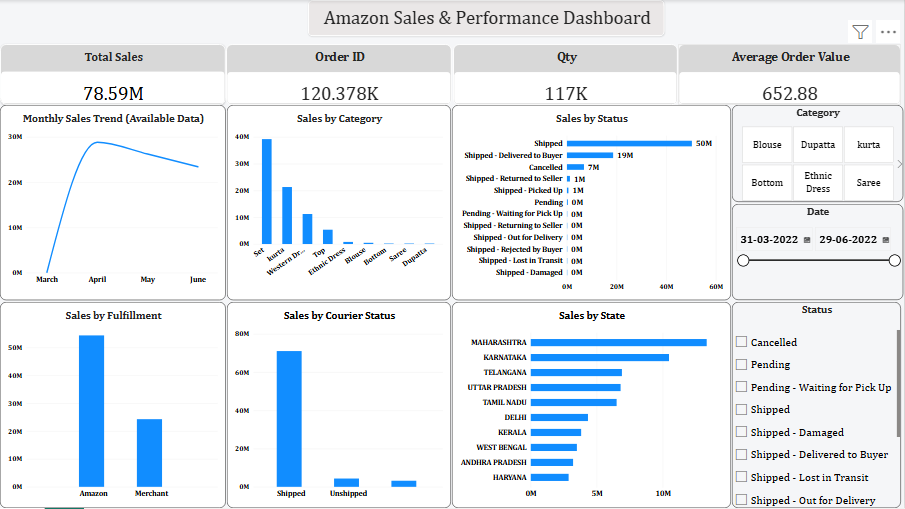

Layout of this report page (visuals, bound fields, positions):
{"tool":"powerbi","page":{"name":"Page 1","canvas":[1920,1080],"ordinal":0},"visuals":[{"type":"cardVisual","title":"Total Sales","fields":{"Data":["Sum(amazon_data.Amount)"]},"box":[0,93.3,480,128.9],"z":0},{"type":"cardVisual","title":"Order ID","fields":{"Data":["Count(amazon_data.Order ID)"]},"box":[480.5,93.5,480.5,129.7],"z":1000},{"type":"cardVisual","title":"Qty","fields":{"Data":["Sum(amazon_data.Qty)"]},"box":[963.1,93.5,478.3,129.7],"z":2000},{"type":"cardVisual","title":"Average Order Value","fields":{"Data":["amazon_data.Average Order Value"]},"box":[1441.4,93.5,474.1,129.7],"z":3000},{"type":"lineChart","title":"Monthly Sales Trend (Available Data)","fields":{"Y":["Sum(amazon_data.Amount)"],"Category":["amazon_data.Date.Variation.Date Hierarchy.Month"]},"box":[0,223.2,480.5,414.6],"z":4000},{"type":"clusteredColumnChart","title":"Sales by Category","fields":{"Category":["amazon_data.Category"],"Y":["Sum(amazon_data.Amount)"]},"box":[482.6,223.2,476.2,414.6],"z":5000},{"type":"clusteredColumnChart","title":"Sales by Fulfillment","fields":{"Category":["amazon_data.Fulfilment"],"Y":["Sum(amazon_data.Amount)"]},"box":[0,642,480.5,438],"z":6000},{"type":"barChart","title":"Sales by Status","fields":{"Category":["amazon_data.Status"],"Y":["Sum(amazon_data.Amount)"]},"box":[960.9,223.2,593.1,414.6],"z":7000},{"type":"slicer","title":"Category","fields":{"Values":["amazon_data.Category"]},"box":[1556.2,223.2,363.5,206.2],"z":8000},{"type":"slicer","title":"Status","fields":{"Values":["amazon_data.Status"]},"box":[1556.2,642,359.3,438],"z":9000},{"type":"slicer","title":"Date","fields":{"Values":["amazon_data.Date"]},"box":[1556.2,433.7,363.5,204.1],"z":10000},{"type":"clusteredBarChart","title":"Sales by State","fields":{"Category":["amazon_data.ship-state"],"Y":["Sum(amazon_data.Amount)"]},"box":[960.9,642,593.1,438],"z":11000},{"type":"textbox","title":"Amazon Sales & Performance Dashboard","box":[655.6,0,757.8,77],"z":12000},{"type":"clusteredColumnChart","title":"Sales by Courier Status","fields":{"Category":["amazon_data.Courier Status"],"Y":["Sum(amazon_data.Amount)"]},"box":[482.6,642,476.2,438],"z":13000}]}

Visuals, with their boxes in screenshot pixels (x1, y1, x2, y2), scaled from the page's 1920x1080 canvas onto the 905x509 screenshot:
"Total Sales" cardVisual: l=0, t=44, r=226, b=105
"Order ID" cardVisual: l=226, t=44, r=453, b=105
"Qty" cardVisual: l=454, t=44, r=679, b=105
"Average Order Value" cardVisual: l=679, t=44, r=903, b=105
"Monthly Sales Trend (Available Data)" lineChart: l=0, t=105, r=226, b=301
"Sales by Category" clusteredColumnChart: l=227, t=105, r=452, b=301
"Sales by Fulfillment" clusteredColumnChart: l=0, t=303, r=226, b=508
"Sales by Status" barChart: l=453, t=105, r=732, b=301
"Category" slicer: l=734, t=105, r=904, b=202
"Status" slicer: l=734, t=303, r=903, b=508
"Date" slicer: l=734, t=204, r=904, b=301
"Sales by State" clusteredBarChart: l=453, t=303, r=732, b=508
"Amazon Sales & Performance Dashboard" textbox: l=309, t=0, r=666, b=36
"Sales by Courier Status" clusteredColumnChart: l=227, t=303, r=452, b=508
